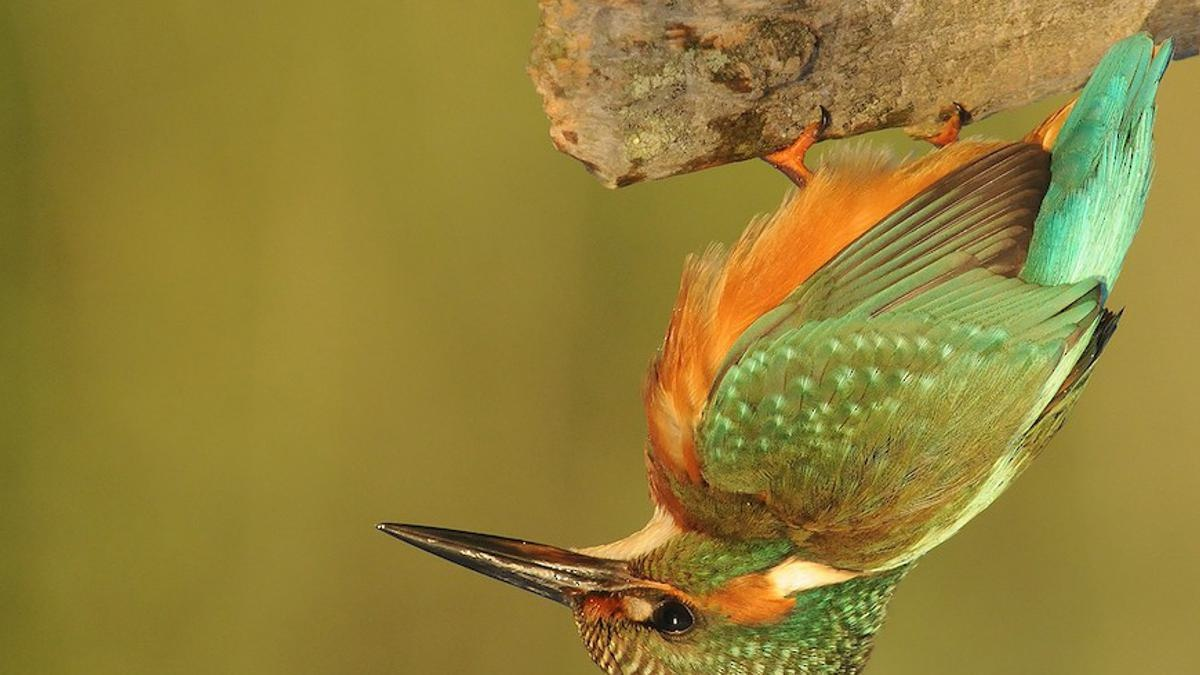kingfisher: (347, 40, 1192, 672)
